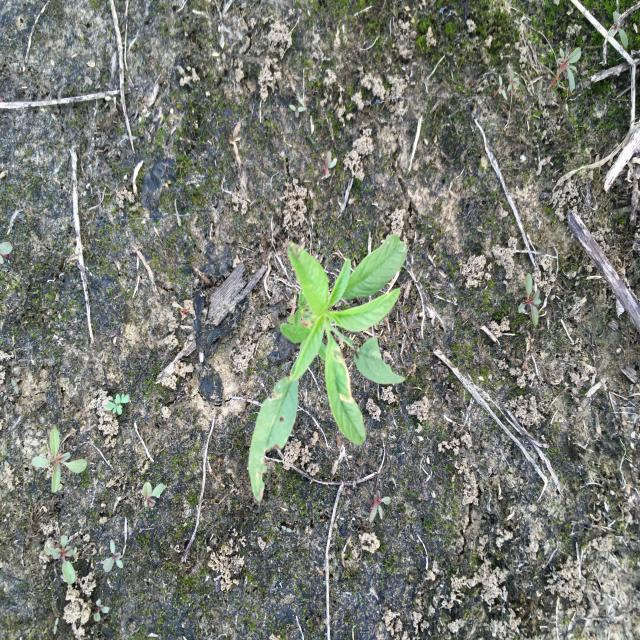Waterhemp: (247, 233, 410, 505), (29, 425, 90, 495)
